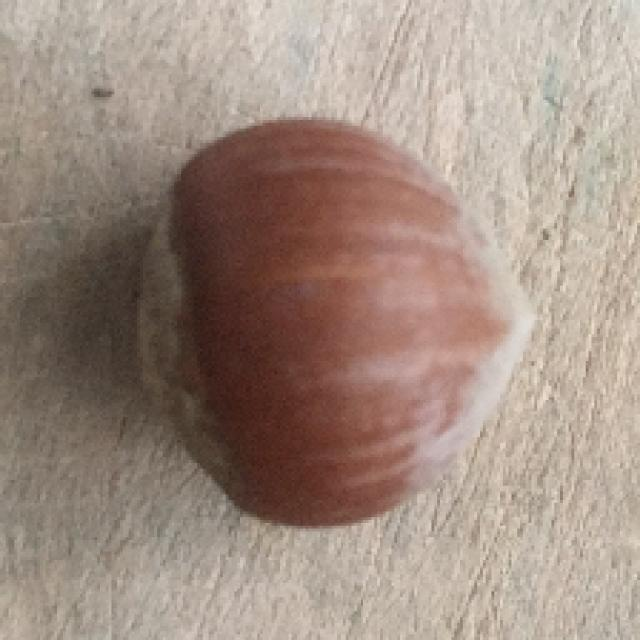qualityHazelnut: (117, 122, 542, 528)
